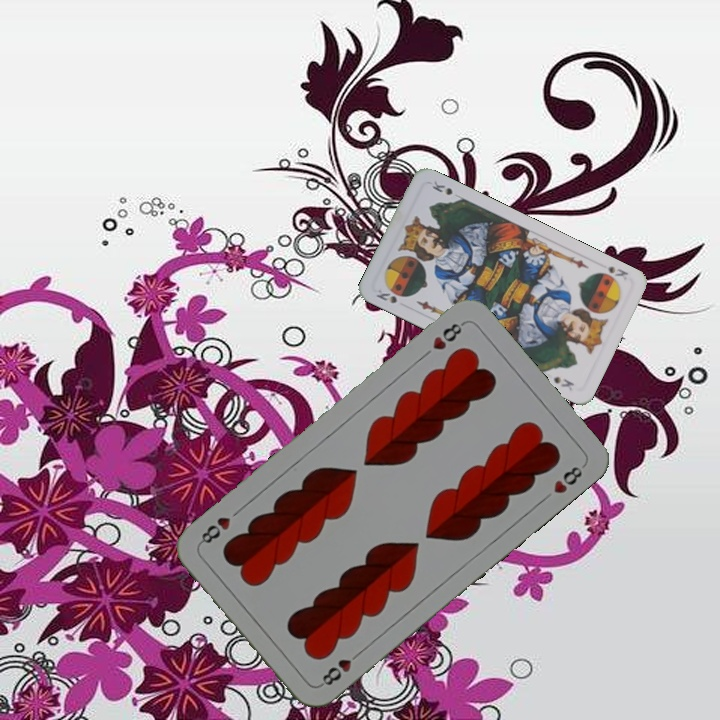H8: (315, 646, 365, 689), (428, 317, 467, 353)
SK: (372, 284, 399, 306), (603, 262, 631, 283)
